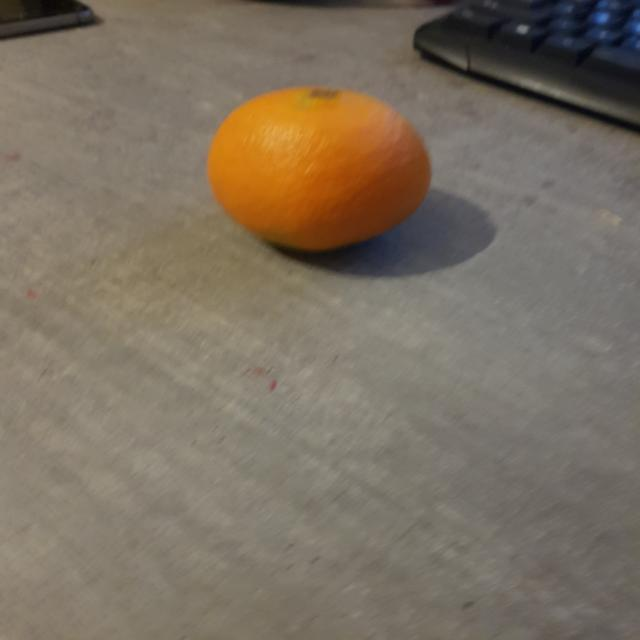Orange: (207, 86, 432, 252)
